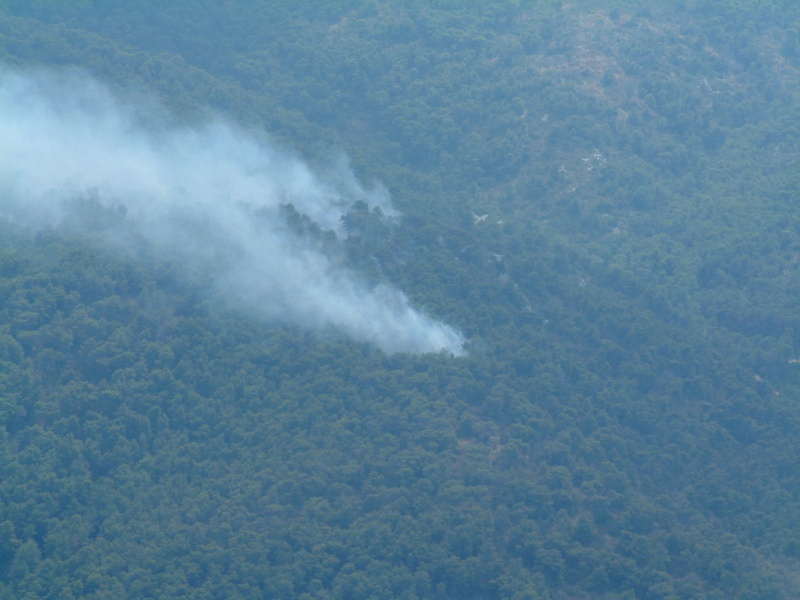smoke: (1, 71, 405, 336)
